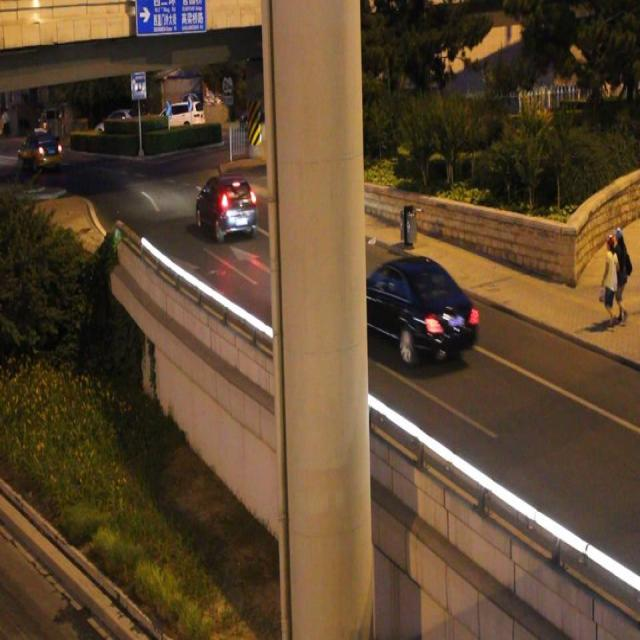car: (341, 255, 477, 362), (195, 170, 258, 240)
